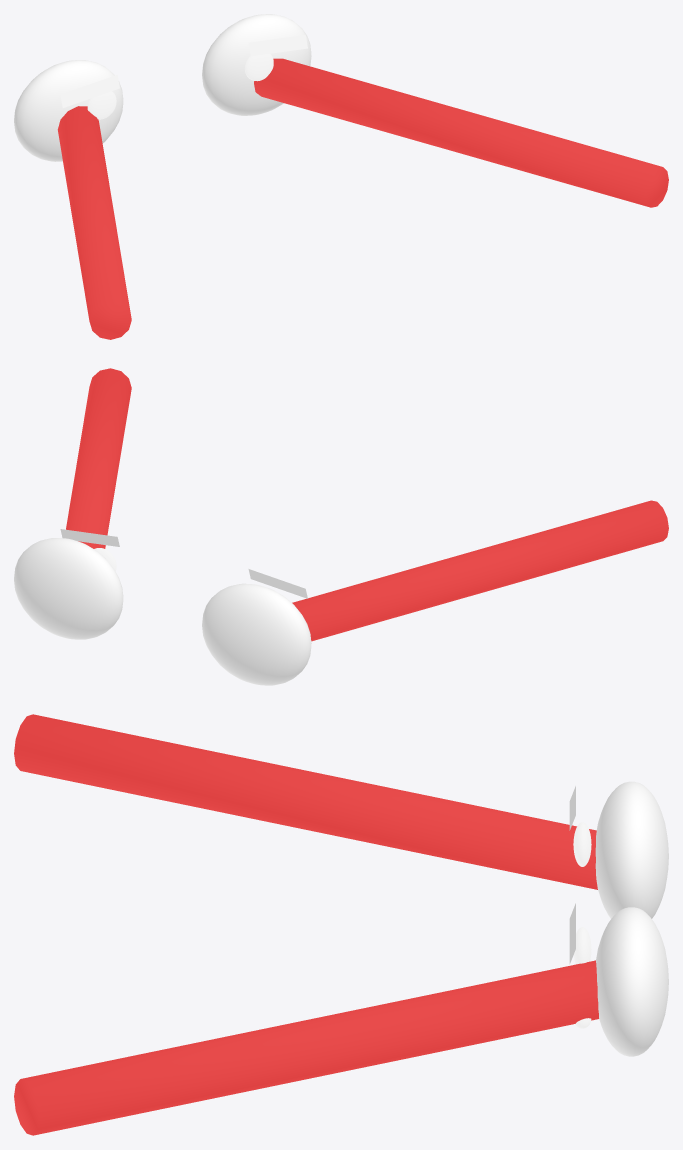
Rendered from trait-eyes-red-laser.glb.
3 views of the same model, one above another, from view 1: azimuth 30°, elevation 25°; view 2: azimuth 150°, elevation 25°; view 3: azimuth 270°, elevation 25° (orthographic). The views are drawn at different scales.
Parts seen in each view (by area): view 1: trait_eye_beam_R, trait_eye_beam_L, trait_eye_R, trait_eye_L, trait_eye_lash_L, trait_eye_lash_R, trait_eye_glint_R, trait_eye_glint_L; view 2: trait_eye_beam_L, trait_eye_L, trait_eye_R, trait_eye_beam_R, trait_eye_lash_R, trait_eye_lash_L; view 3: trait_eye_beam_R, trait_eye_beam_L, trait_eye_R, trait_eye_L, trait_eye_glint_L.
Boxes of the visible parts, x1,y1,x2,y2 form: trait_eye_beam_R: (254,58,668,207); trait_eye_beam_L: (57,106,131,339); trait_eye_R: (202,14,311,115); trait_eye_L: (14,60,123,161); trait_eye_lash_L: (60,75,119,107); trait_eye_lash_R: (248,35,307,56); trait_eye_glint_R: (244,54,273,81); trait_eye_glint_L: (87,91,116,119); trait_eye_beam_L: (292,500,668,641); trait_eye_L: (202,583,311,685); trait_eye_R: (14,538,123,639); trait_eye_beam_R: (66,368,131,548); trait_eye_lash_R: (60,529,119,546); trait_eye_lash_L: (248,569,307,598); trait_eye_beam_R: (14,960,598,1135); trait_eye_beam_L: (14,714,597,889); trait_eye_R: (596,907,668,1056); trait_eye_L: (595,781,668,918); trait_eye_glint_L: (573,822,591,866).
Bounding box in the file's own units: 1.42 × 0.2262 × 1.01.
